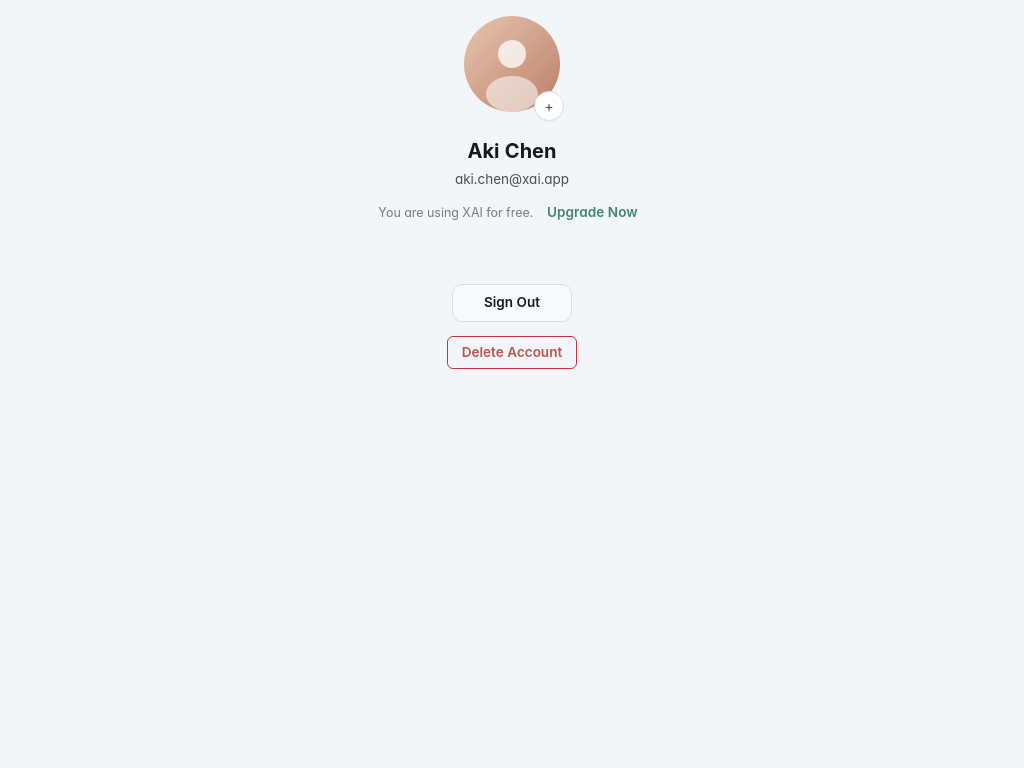
Scenario: accountPane › AC5: clicking Delete Account opens the dialog — shows Step 1 title
The image size is (1024, 768).
Click the button with test id "delete-account-btn" at (512, 352), box top-left (447, 336), bottom-right (577, 369)
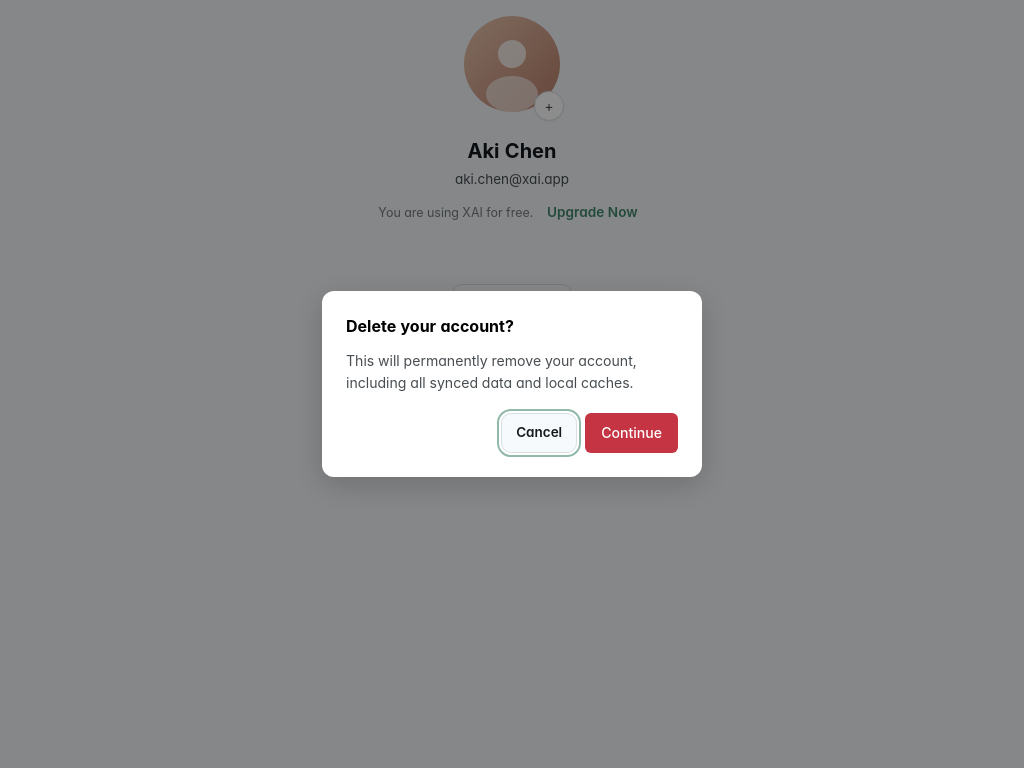
Check: the heading "Delete your account?" is shown, box top-left (346, 316), bottom-right (514, 336)
